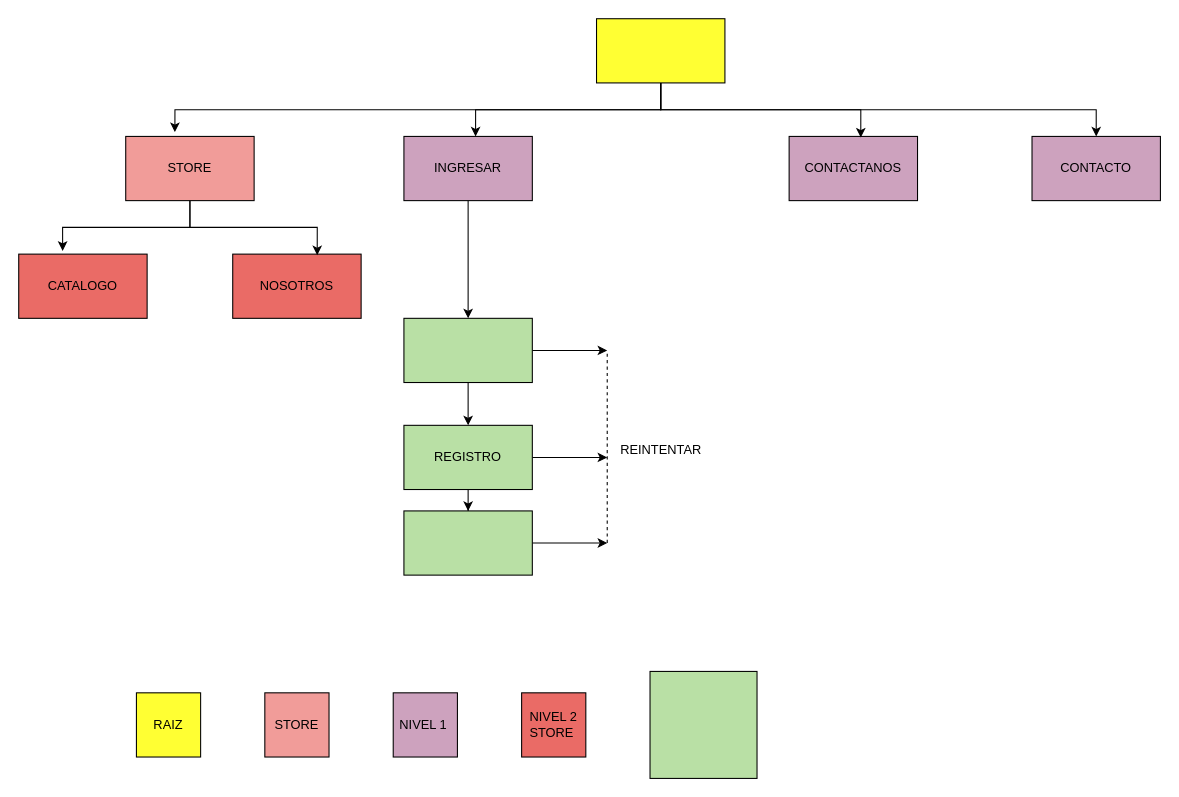
Some shapes in this 1179 by 797 pixel diagram are drawn without their labels. The shapes that lost their labels are listed below. From the top down, each one's centre as x and y in pixels, then its label:
the point at 660,50: INDEX
the point at 467,350: LOGIN
the point at 467,542: ERRORES
the point at 703,724: AUTENTICACIÓN
